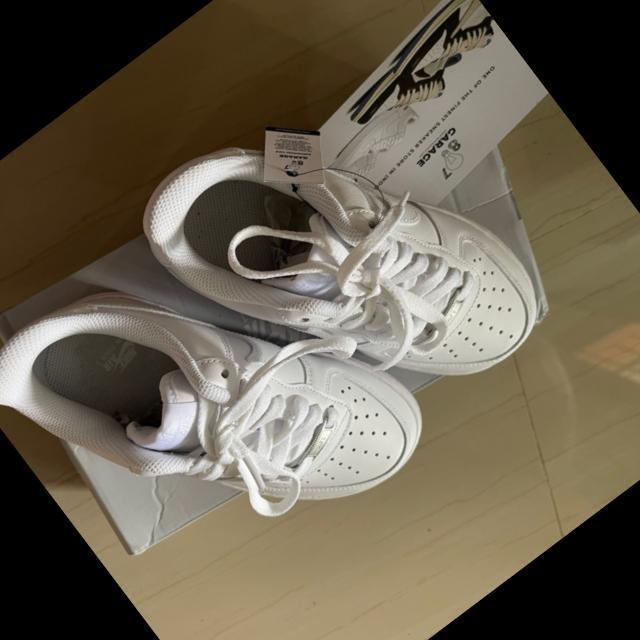nike original air force: (116, 12, 596, 494), (0, 157, 448, 640)
